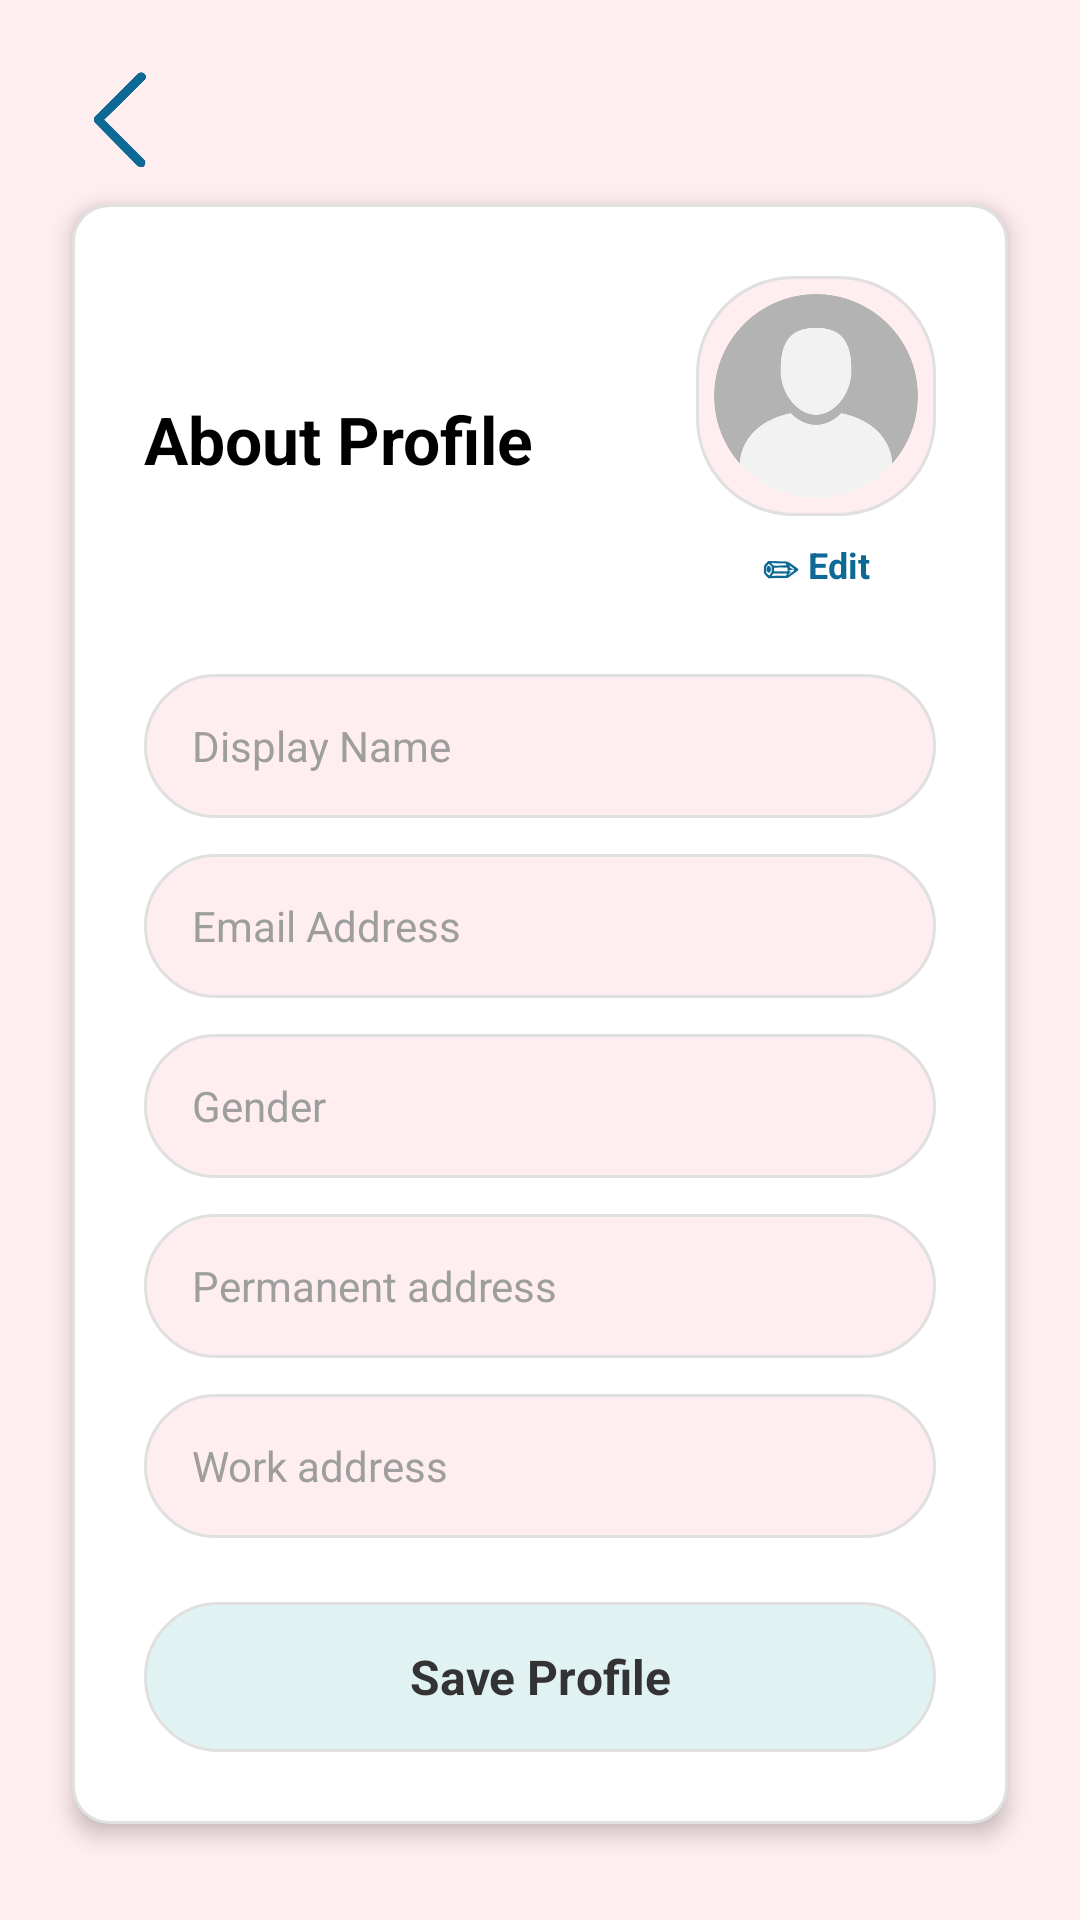

Icons on this 1080*1920 Android screen, each with the point to tap as point (x, y):
revert: point (120, 119)
